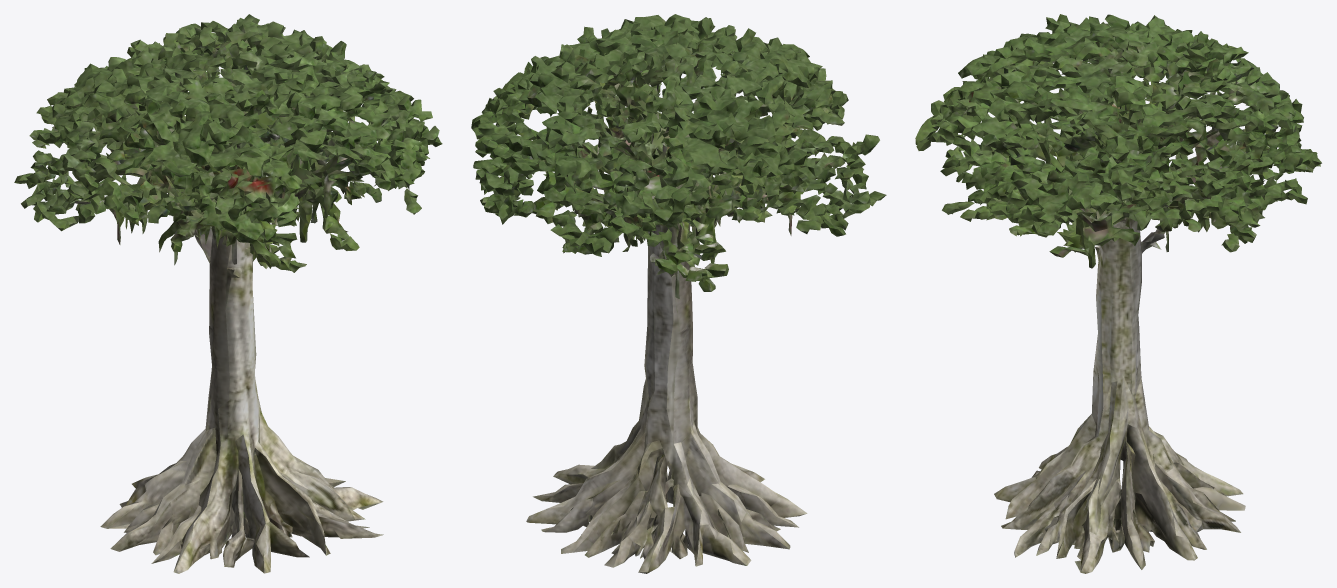
File: 1-kapok.glb
3 views of the same model, side by side, from view 1: azimuth 30°, elevation 25°; view 2: azimuth 150°, elevation 25°; view 3: azimuth 270°, elevation 25° (orthographic).
Parts seen in each view (by area): view 1: geometry_0; view 2: geometry_0; view 3: geometry_0.
Boxes of the visible parts, x1,y1,x2,y2 form: geometry_0: (14,14,442,573); geometry_0: (471,14,886,573); geometry_0: (915,14,1321,573).
Size of the model in its own units: 12.59 by 15 by 12.09.
Materials: 1 (1 with a texture image).
